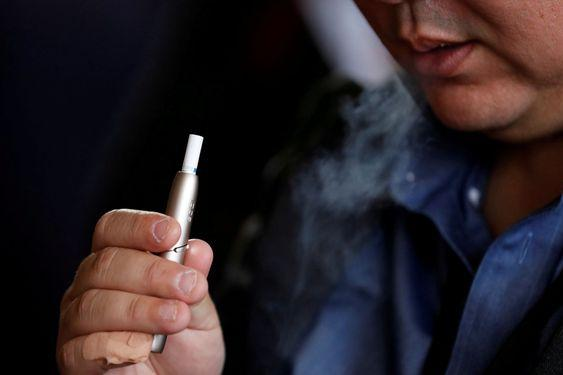iqos: (151, 133, 204, 354)
